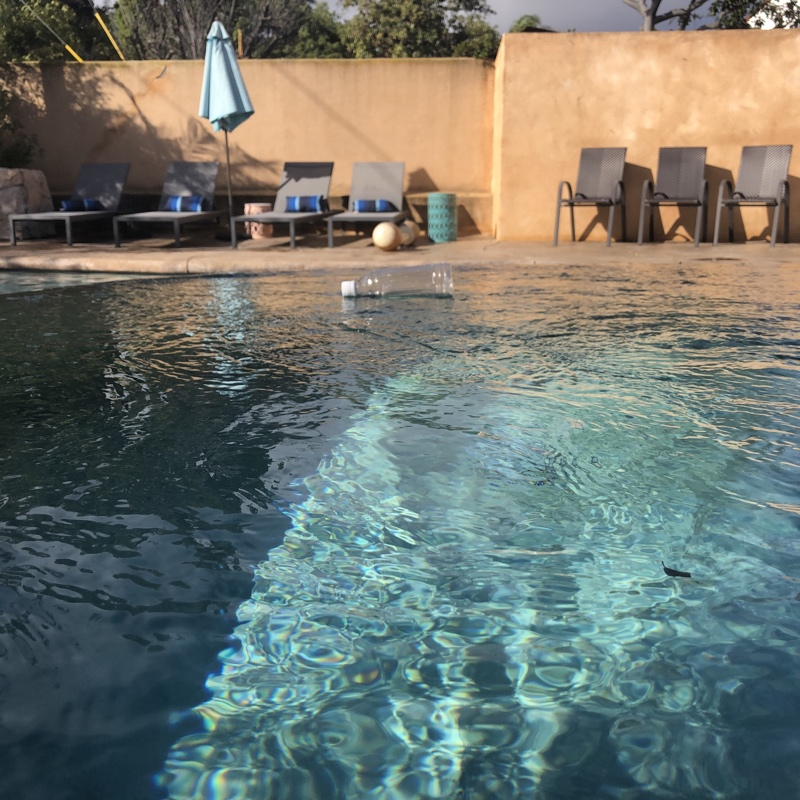Plastic Bottle: (337, 260, 457, 300)
